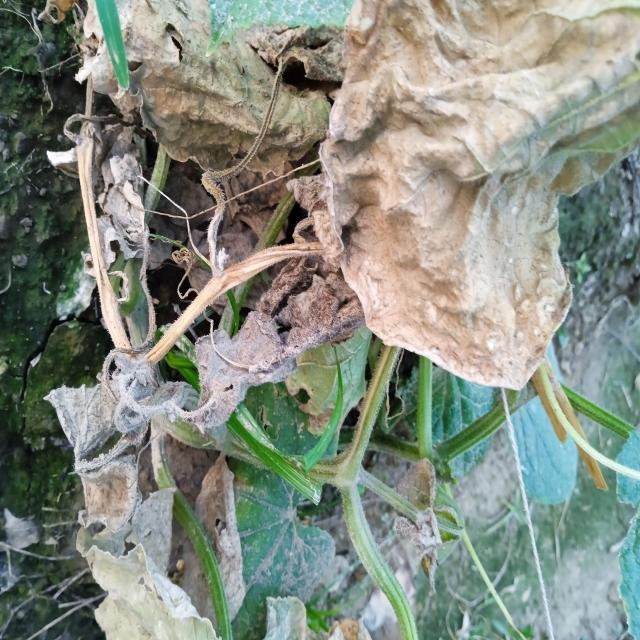cucumber_bacterial: (368, 8, 582, 391), (50, 385, 188, 640), (192, 327, 298, 436), (96, 144, 168, 299), (289, 266, 361, 317)
